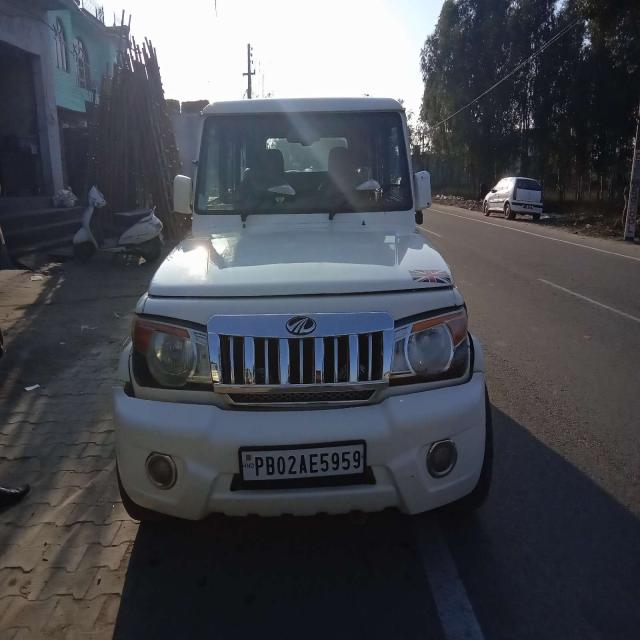light_vehicle: (112, 106, 476, 521)
